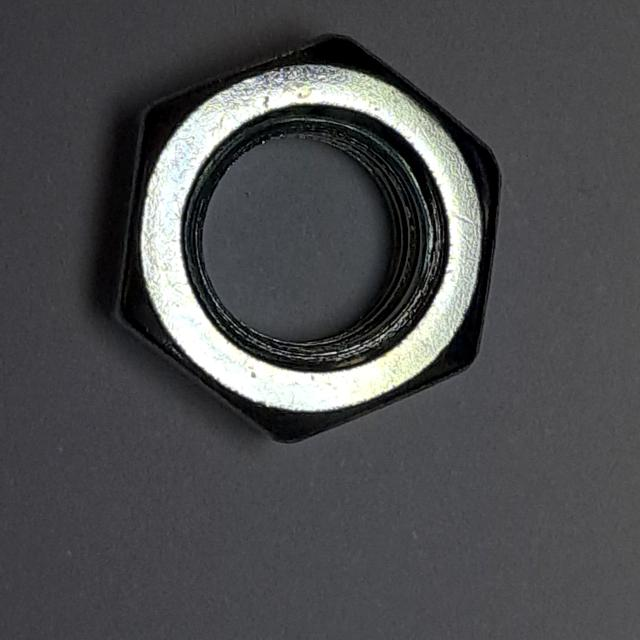Excellent: (97, 23, 513, 454)
